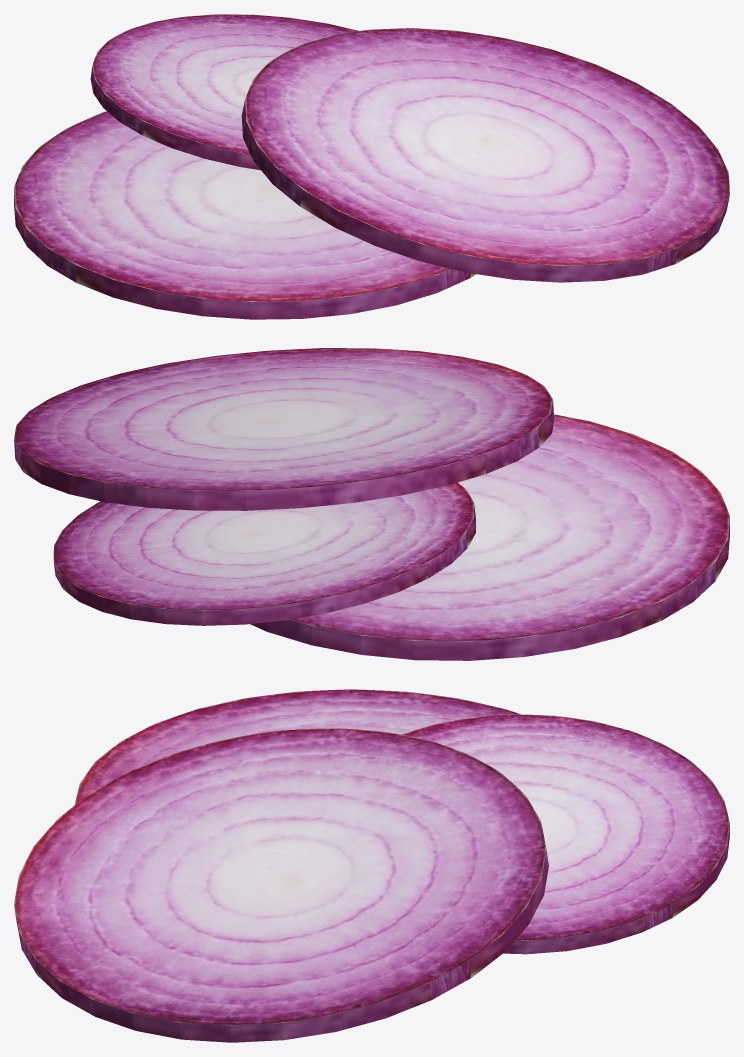
Rendered from cipolla_non_usare.fbx.
3 renders of one model, top to bottom at view 1: azimuth 30°, elevation 25°; view 2: azimuth 150°, elevation 25°; view 3: azimuth 270°, elevation 25°, orthographic. The views are drawn at different scales.
Parts seen in each view (by area): view 1: Circle.002, Circle, Circle.001; view 2: Circle.002, Circle, Circle.001; view 3: Circle.002, Circle.001, Circle.
Boxes of the visible parts, <box> form: Circle.002: <box>241,28,729,282</box>; Circle: <box>14,111,475,319</box>; Circle.001: <box>90,14,358,170</box>; Circle.002: <box>14,348,554,510</box>; Circle: <box>250,414,729,660</box>; Circle.001: <box>53,482,475,625</box>; Circle.002: <box>14,727,548,1042</box>; Circle.001: <box>401,714,729,954</box>; Circle: <box>74,689,519,804</box>.
Bounding box in the file's own units: 289 × 44.34 × 267.
